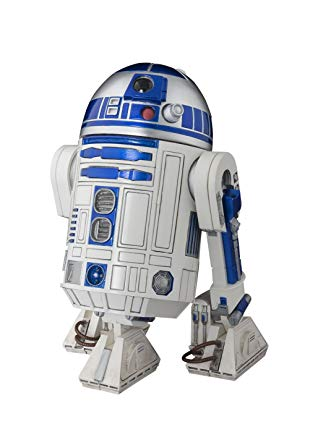r2d2: (52, 62, 268, 393)
